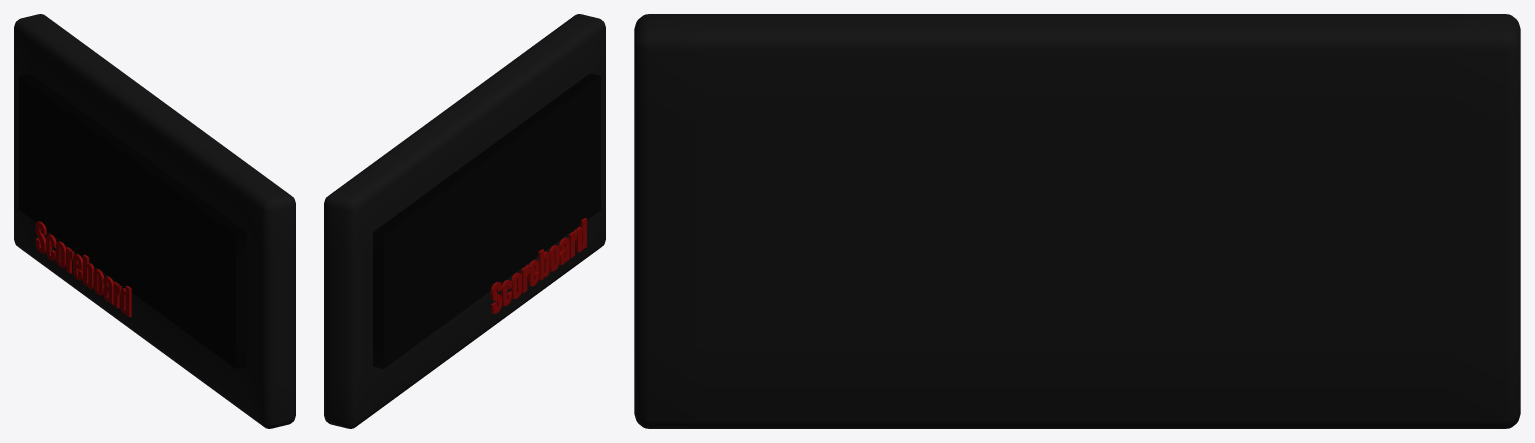
Rendered from Scoreboard.FBX.
3 renders of one model, left to right at view 1: azimuth 30°, elevation 25°; view 2: azimuth 150°, elevation 25°; view 3: azimuth 270°, elevation 25°, orthographic. The views are drawn at different scales.
Parts seen in each view (by area): view 1: ChamferBox001, ChamferBox002, TextPlus001; view 2: ChamferBox001, ChamferBox002, TextPlus001; view 3: ChamferBox001.
Boxes of the visible parts, box(x1,y1,x2,y2) form: ChamferBox001: box(14, 14, 295, 428); ChamferBox002: box(19, 73, 246, 368); TextPlus001: box(35, 221, 131, 317); ChamferBox001: box(324, 14, 605, 428); ChamferBox002: box(373, 73, 600, 368); TextPlus001: box(490, 218, 586, 313); ChamferBox001: box(634, 14, 1520, 428).
Bounding box in the file's own units: 12.02 × 29.11 × 58.86.
